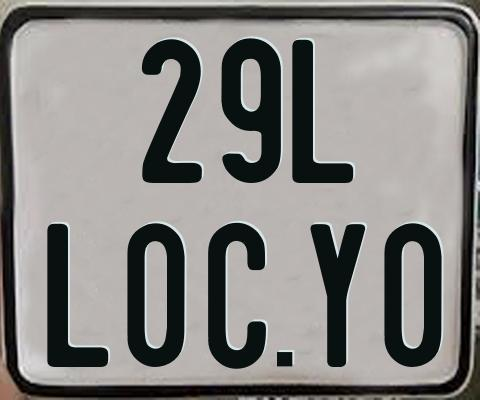0: (125, 222, 188, 370), (384, 222, 446, 367)
2: (139, 39, 201, 186)
9: (218, 35, 281, 181)
C: (205, 221, 266, 369)
L: (292, 37, 357, 183), (47, 224, 110, 372)
Y: (310, 221, 371, 370)
